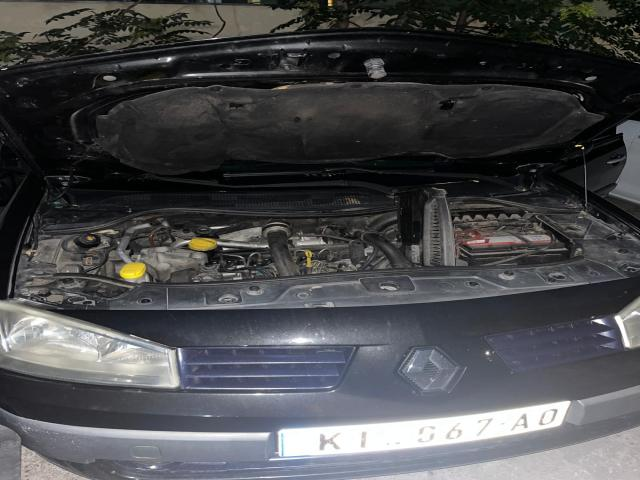accumulator: (455, 230, 578, 265)
antifreeze_tank: (32, 233, 102, 273)
fuse_box: (545, 214, 617, 239)
high_pressure_pump: (192, 273, 243, 282)
